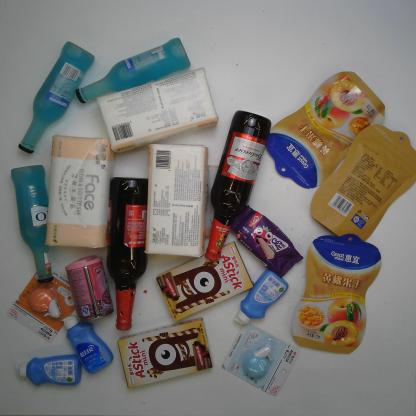Alcohol: (204, 107, 273, 264), (18, 40, 95, 155), (74, 37, 192, 106), (103, 176, 150, 331), (9, 163, 55, 284)
Canned Food: (64, 254, 115, 323)
Dessert: (154, 240, 254, 323), (115, 317, 214, 390), (230, 203, 304, 280)
Dried Fruit: (261, 70, 386, 191), (310, 122, 414, 244), (291, 232, 382, 355)
Personal Hygiene: (62, 314, 114, 376), (234, 269, 290, 326), (14, 353, 82, 388)
Stationery: (5, 260, 82, 346), (219, 320, 300, 397)
Tissue: (96, 66, 219, 155), (42, 133, 114, 251), (143, 140, 209, 259)
